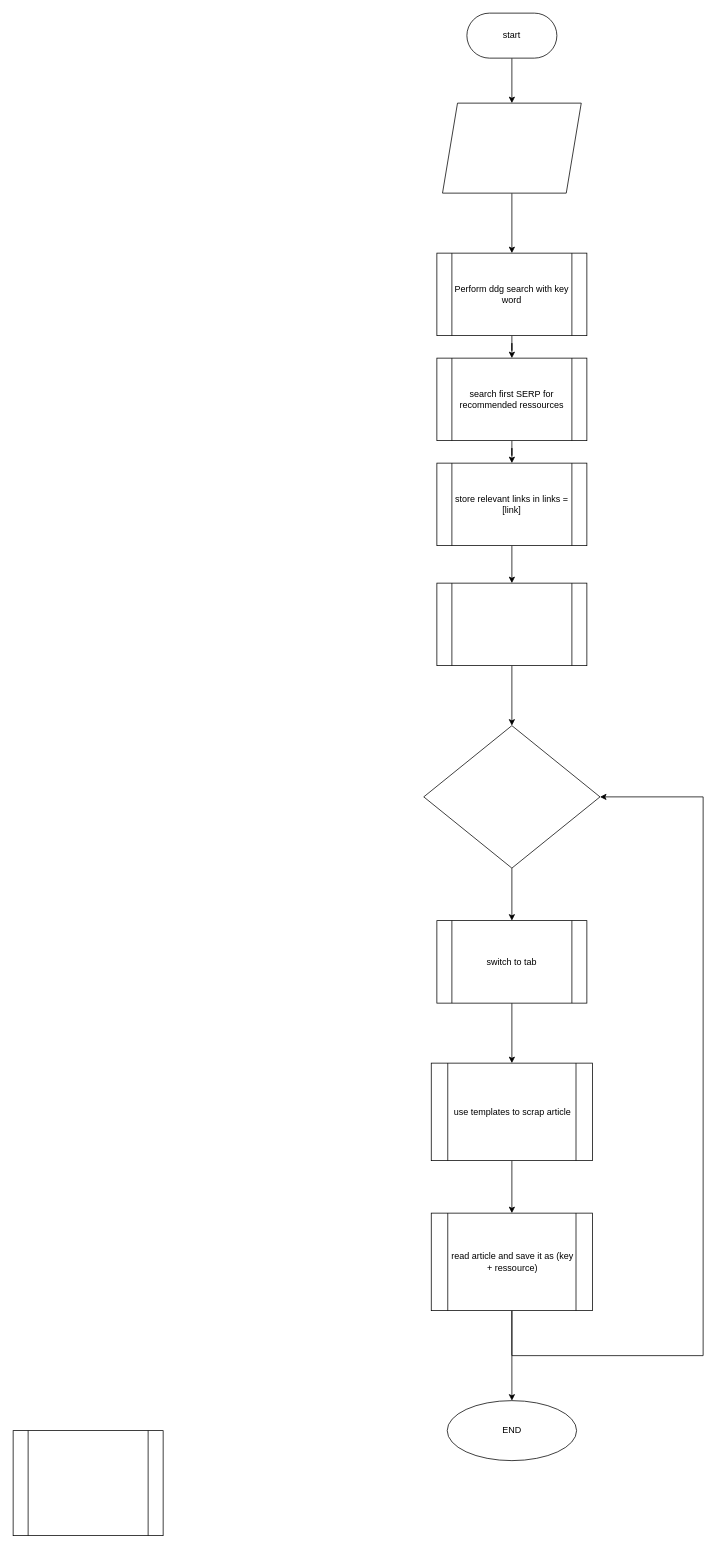
The diagram is 722 pixels wide and 1549 high, and some of its shapes have lost their labels. Here are the shapes that lost their labels. From the top down, the box of each, then its label:
(442, 102, 581, 193): key = user input
(436, 582, 587, 666): open each link in a new tab
(423, 725, 600, 868): for tabs in tabs
(12, 1430, 163, 1536): download video and use format converter to extract videos audio.
